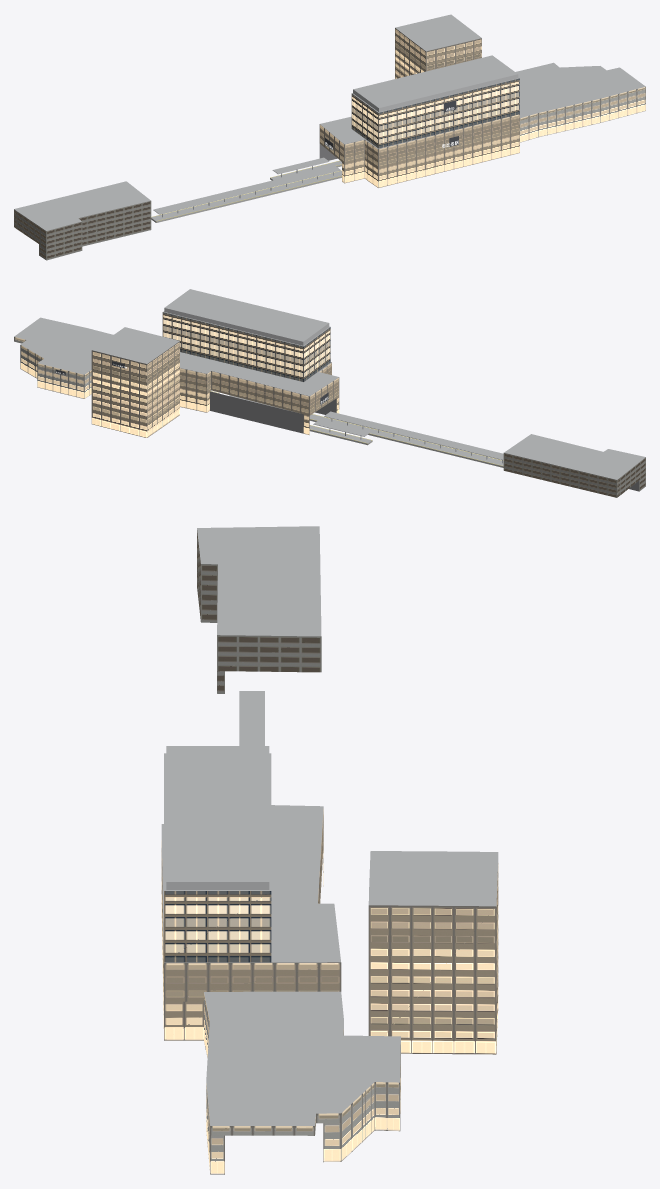
File: ebisu_station.glb
3 renders of one model, top to bottom at view 1: azimuth 30°, elevation 25°; view 2: azimuth 150°, elevation 25°; view 3: azimuth 270°, elevation 25°, orthographic. The views are drawn at different scales.
Visible parts, largest first — view 1: EB_Station; view 2: EB_Station; view 3: EB_Station.
Boxes of the visible parts, bbox=[...] form: EB_Station: bbox=[14, 14, 645, 260]; EB_Station: bbox=[14, 289, 645, 497]; EB_Station: bbox=[161, 526, 498, 1174].
Bounding box in the file's own units: 390 × 48.5 × 94.15.
14 materials, 5 textured.
